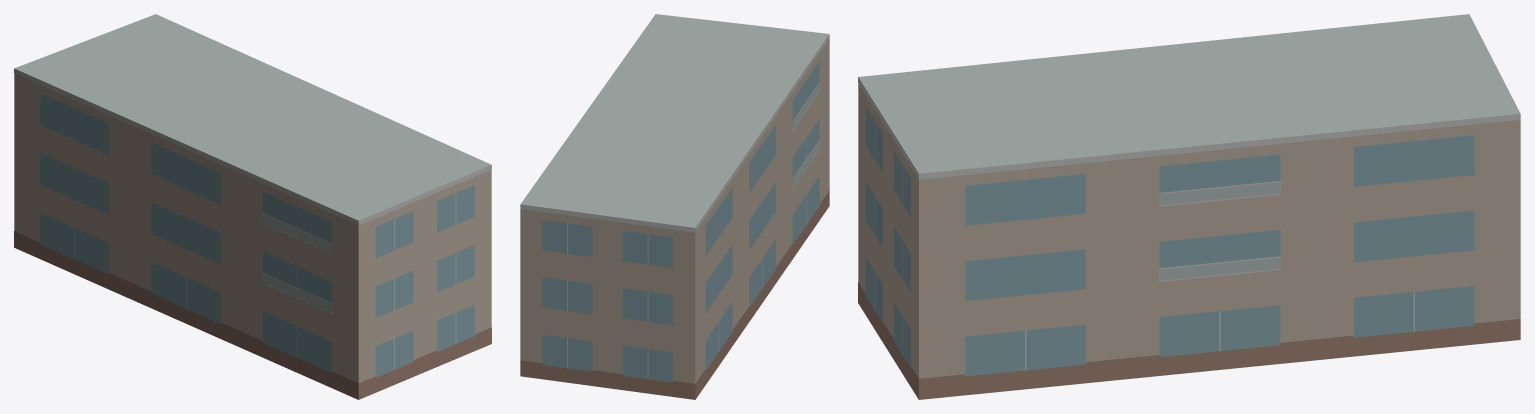
File: survey-upis-32723875.glb
3 renders of one model, left to right at view 1: azimuth 30°, elevation 25°; view 2: azimuth 150°, elevation 25°; view 3: azimuth 270°, elevation 25°, orthographic. The views are drawn at different scales.
Visible parts, largest first — view 1: survey-upis-32723875.tmp; view 2: survey-upis-32723875.tmp; view 3: survey-upis-32723875.tmp.
Part boxes in pixels (x1,y1,x2,y2): survey-upis-32723875.tmp: (14,14,491,399); survey-upis-32723875.tmp: (520,14,829,399); survey-upis-32723875.tmp: (858,14,1520,399).
Size of the model in its own units: 13.88 by 9.15 by 24.31.
